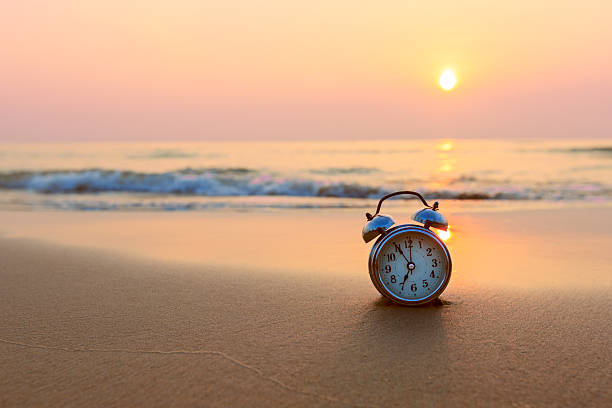clock: (375, 228, 449, 302)
